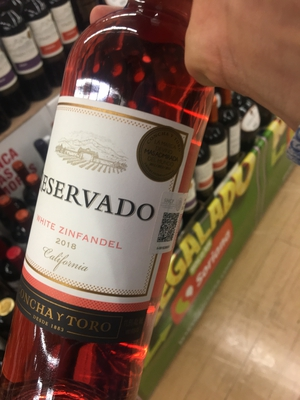reservado white zinfandel: (29, 23, 200, 400)
